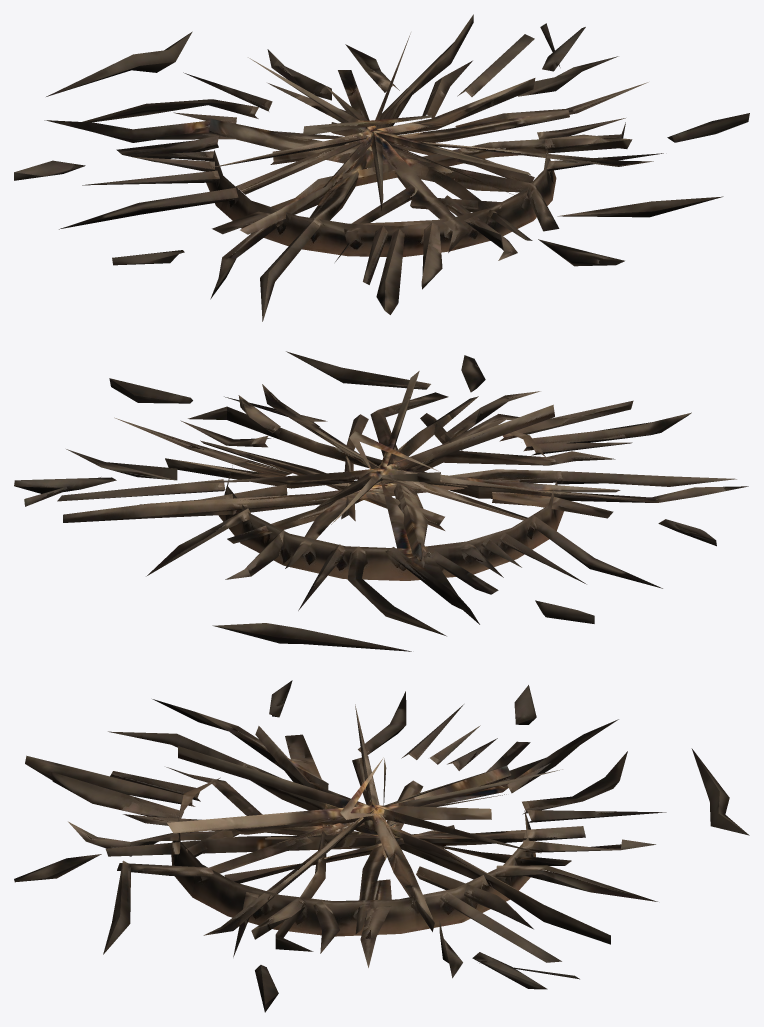
The model's file is legacy_camp-clutter_straw.glb.
3 renders of one model, top to bottom at view 1: azimuth 30°, elevation 25°; view 2: azimuth 150°, elevation 25°; view 3: azimuth 270°, elevation 25°, orthographic. The views are drawn at different scales.
Parts seen in each view (by area): view 1: L_camp-clutter_straw; view 2: L_camp-clutter_straw; view 3: L_camp-clutter_straw.
Part boxes in pixels (bbox=[...]): L_camp-clutter_straw: bbox=[14, 14, 749, 321]; L_camp-clutter_straw: bbox=[14, 351, 748, 651]; L_camp-clutter_straw: bbox=[14, 680, 749, 1012].
Size of the model in its own units: 2.39 by 0.2375 by 2.27.
Materials: 1 (1 with a texture image).
